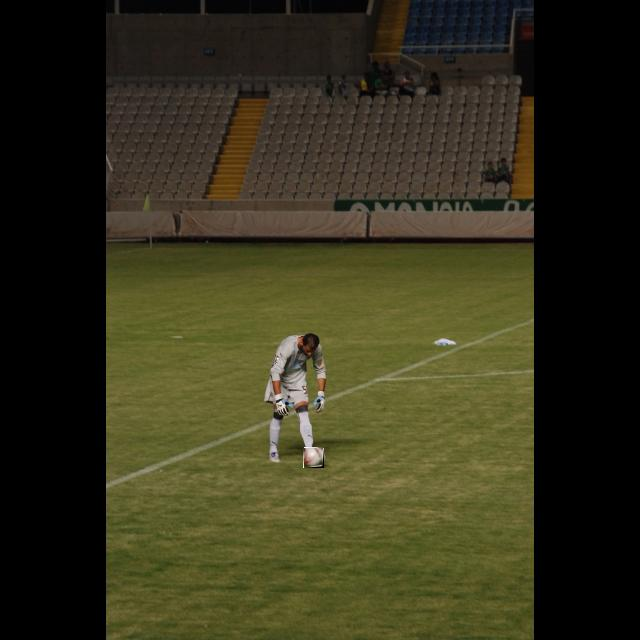Football: (304, 448, 324, 468)
